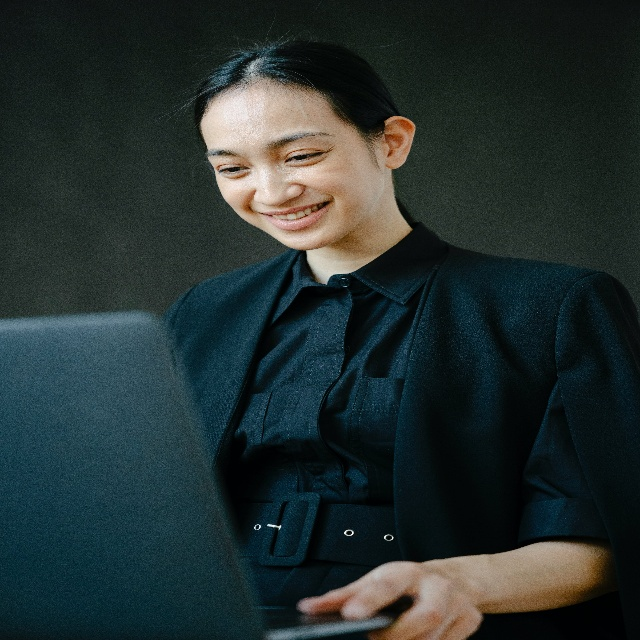Sin_guantes: (294, 555, 483, 640)
